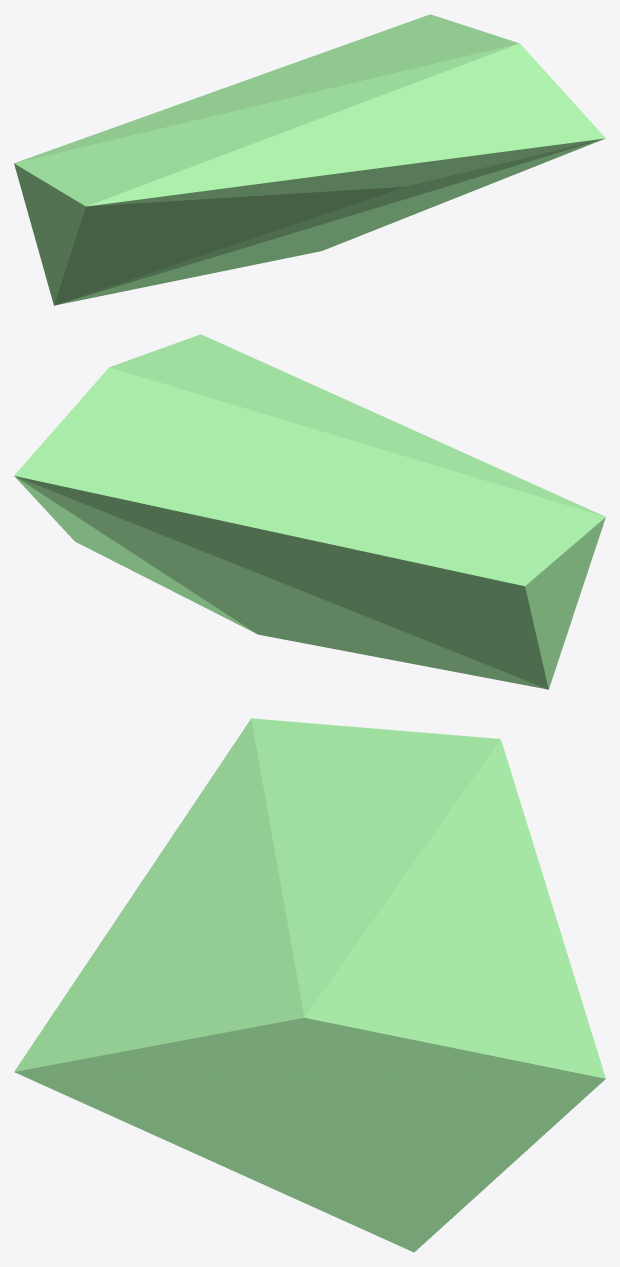
The model's file is xarm7_with_gripper_LR4_R560_link7_respondable_coll_9.dae.
3 renders of one model, top to bottom at view 1: azimuth 30°, elevation 25°; view 2: azimuth 150°, elevation 25°; view 3: azimuth 270°, elevation 25°, orthographic. The views are drawn at different scales.
Parts seen in each view (by area): view 1: Node_000001B88F9DF6A0; view 2: Node_000001B88F9DF6A0; view 3: Node_000001B88F9DF6A0.
Part boxes in pixels (left/top/right/bottom): Node_000001B88F9DF6A0: left=14, top=14, right=605, bottom=305; Node_000001B88F9DF6A0: left=14, top=334, right=605, bottom=689; Node_000001B88F9DF6A0: left=14, top=718, right=605, bottom=1252.
Bounding box in the file's own units: 0.00802 × 0.0032 × 0.00541.
